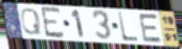1: (71, 9, 86, 40)
3: (92, 8, 112, 42)
E: (40, 6, 66, 40), (137, 13, 164, 44)
L: (117, 10, 140, 43)
Q: (19, 7, 43, 36)
